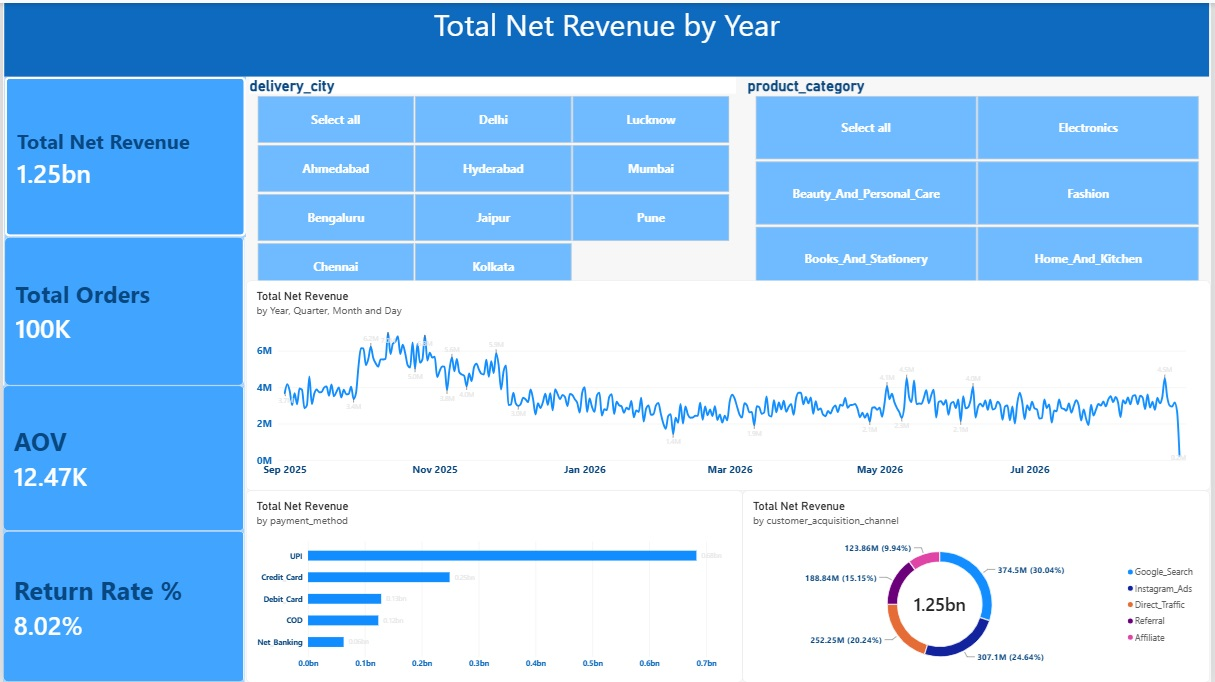

The page's visual inventory and layout, read from the dashboard file:
{"tool":"powerbi","page":{"name":"Page 1","canvas":[1920,1080],"ordinal":0},"visuals":[{"type":"cardVisual","fields":{"Data":["ecommerce_portfolio_dataset_100.Total Net Revenue"]},"box":[2.4,116.9,384.1,255.3],"z":0},{"type":"cardVisual","fields":{"Data":["ecommerce_portfolio_dataset_100.Total Orders"]},"box":[2.4,372.2,381.7,236.2],"z":1000},{"type":"cardVisual","fields":{"Data":["ecommerce_portfolio_dataset_100.AOV"]},"box":[0,608.4,384.1,231.4],"z":2000},{"type":"cardVisual","fields":{"Data":["ecommerce_portfolio_dataset_100.Return Rate %"]},"box":[0,839.8,384.1,241],"z":3000},{"type":"slicer","fields":{"Values":["ecommerce_portfolio_dataset_100.product_category"]},"box":[1176.3,116.9,744.4,341.2],"z":3001},{"type":"slicer","fields":{"Values":["ecommerce_portfolio_dataset_100.delivery_city"]},"box":[384.1,116.9,789.7,341.2],"z":3002},{"type":"lineChart","fields":{"Category":["ecommerce_portfolio_dataset_100.order_date.Variation.Date Hierarchy.Year","ecommerce_portfolio_dataset_100.order_date.Variation.Date Hierarchy.Quarter","ecommerce_portfolio_dataset_100.order_date.Variation.Date Hierarchy.Month","ecommerce_portfolio_dataset_100.order_date.Variation.Date Hierarchy.Day"],"Y":["ecommerce_portfolio_dataset_100.Total Net Revenue"]},"box":[386.5,441.4,1534.1,334],"z":3003},{"type":"barChart","fields":{"Category":["ecommerce_portfolio_dataset_100.payment_method"],"Y":["ecommerce_portfolio_dataset_100.Total Net Revenue"]},"box":[386.5,775.4,789.7,305.4],"z":3004},{"type":"donutChart","fields":{"Category":["ecommerce_portfolio_dataset_100.customer_acquisition_channel"],"Y":["ecommerce_portfolio_dataset_100.Total Net Revenue"]},"box":[1177,775,743,305],"z":3005},{"type":"shape","box":[2.4,0,1915.9,116.9],"z":3006},{"type":"textbox","box":[2.4,0,1915.9,116.9],"z":3007}]}

Visuals, with their boxes in screenshot pixels (x1, y1, x2, y2), scaled from the page's 1920x1080 canvas onto the 1215x682 screenshot:
cardVisual - ecommerce_portfolio_dataset_100.Total Net Revenue: region(2, 74, 245, 235)
cardVisual - ecommerce_portfolio_dataset_100.Total Orders: region(2, 235, 243, 384)
cardVisual - ecommerce_portfolio_dataset_100.AOV: region(0, 384, 243, 530)
cardVisual - ecommerce_portfolio_dataset_100.Return Rate %: region(0, 530, 243, 681)
slicer - ecommerce_portfolio_dataset_100.product_category: region(744, 74, 1214, 289)
slicer - ecommerce_portfolio_dataset_100.delivery_city: region(243, 74, 743, 289)
lineChart - ecommerce_portfolio_dataset_100.order_date.Variation.Date Hierarchy.Year x ecommerce_portfolio_dataset_100.order_date.Variation.Date Hierarchy.Quarter: region(245, 279, 1214, 490)
barChart - ecommerce_portfolio_dataset_100.payment_method x ecommerce_portfolio_dataset_100.Total Net Revenue: region(245, 490, 744, 681)
donutChart - ecommerce_portfolio_dataset_100.customer_acquisition_channel x ecommerce_portfolio_dataset_100.Total Net Revenue: region(745, 489, 1214, 681)
shape: region(2, 0, 1214, 74)
textbox: region(2, 0, 1214, 74)
